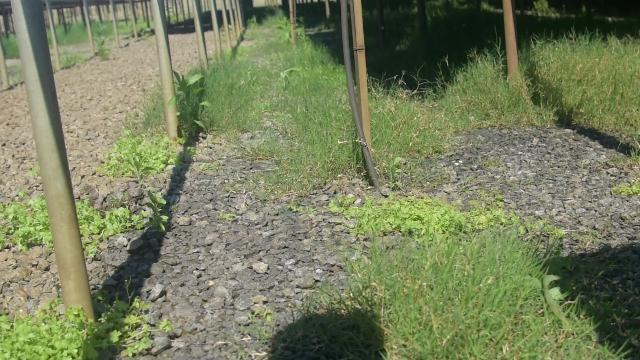MalezaMontesDelPlata: (330, 247, 564, 360), (0, 288, 152, 360), (330, 191, 526, 246), (261, 97, 348, 196), (429, 55, 508, 129), (578, 40, 640, 130), (367, 81, 433, 161), (95, 122, 184, 174), (212, 60, 274, 134), (521, 50, 571, 130), (163, 62, 210, 137), (77, 199, 142, 248), (0, 195, 49, 252), (138, 184, 173, 238)
